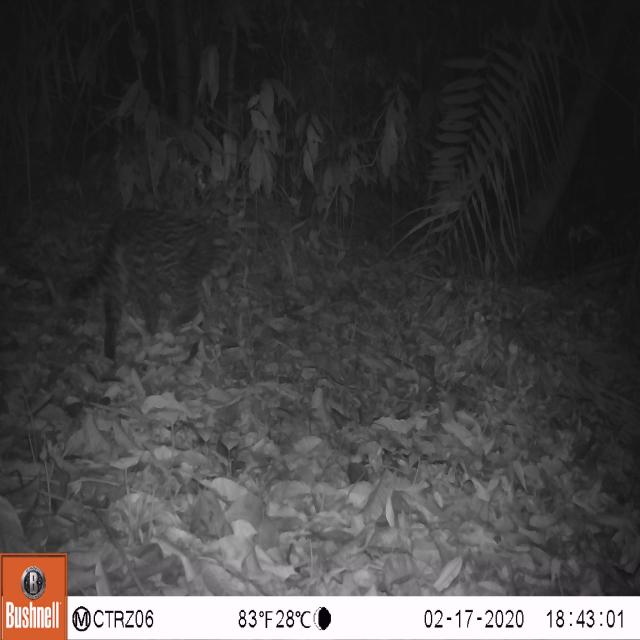Ocelote: (11, 191, 250, 377)
